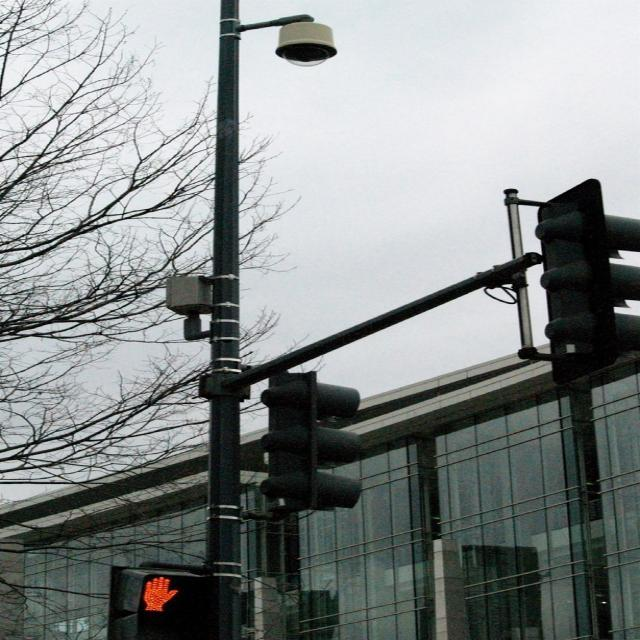off traffic light: (548, 171, 640, 377), (270, 369, 360, 517)
